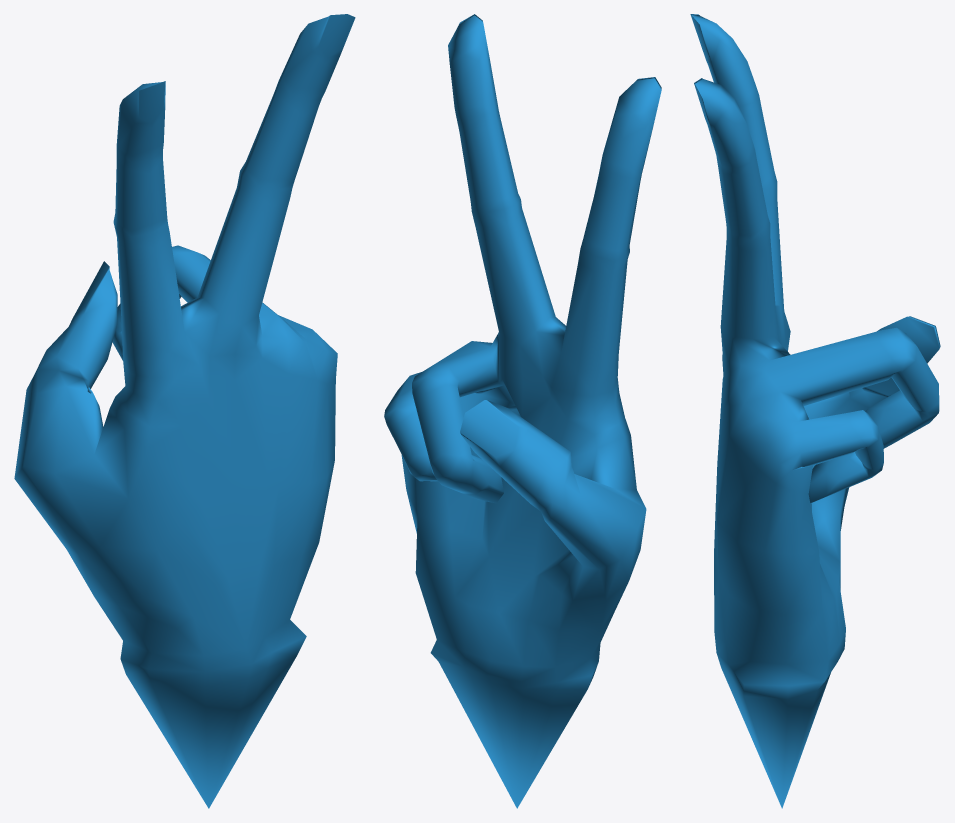
File: Hand_choki_A.obj
The picture shows the model from 3 angles, left to right: view 1: azimuth 30°, elevation 25°; view 2: azimuth 150°, elevation 25°; view 3: azimuth 270°, elevation 25°; orthographic projection. The views are drawn at different scales.
Parts seen in each view (by area): view 1: Hand_choki_A_MDL; view 2: Hand_choki_A_MDL; view 3: Hand_choki_A_MDL.
Boxes of the visible parts, x1=… form: Hand_choki_A_MDL: x1=14, y1=14, x2=355, y2=808; Hand_choki_A_MDL: x1=384, y1=14, x2=661, y2=808; Hand_choki_A_MDL: x1=690, y1=14, x2=940, y2=808.
Bounding box in the file's own units: 7.57 × 20.38 × 6.01.
Materials: 1 (1 with a texture image).
